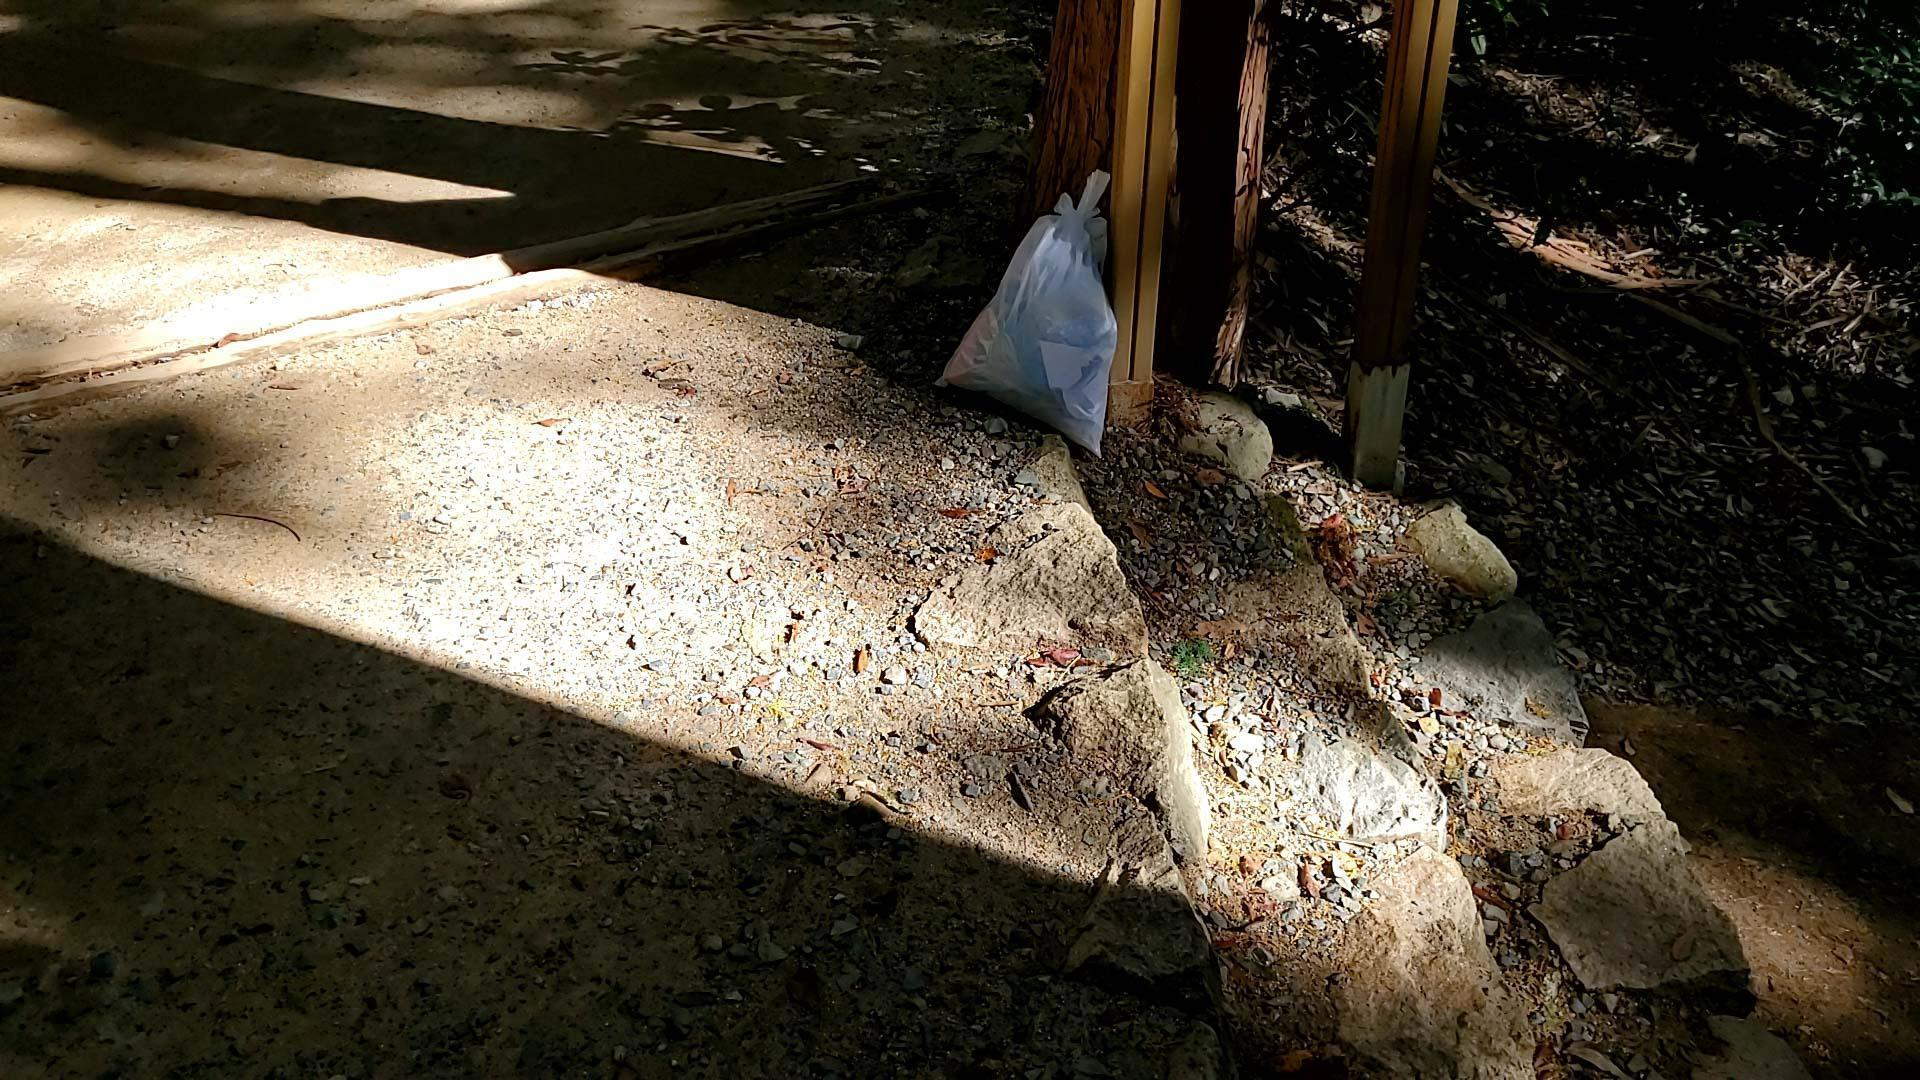white_bag: (914, 160, 1138, 467)
